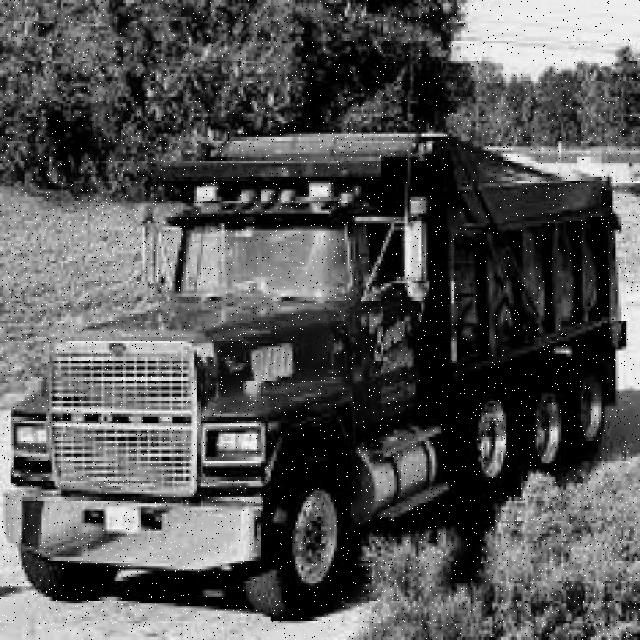Box Truck: (0, 128, 631, 623)
